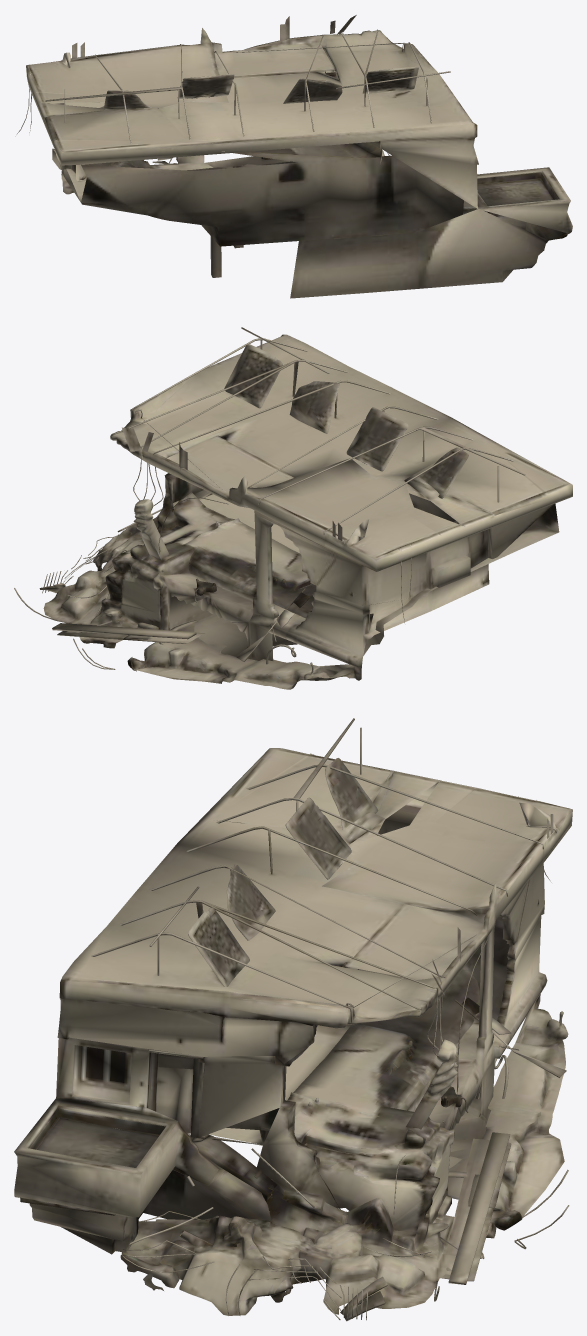
File: ruin.glb
3 views of the same model, one above another, from view 1: azimuth 30°, elevation 25°; view 2: azimuth 150°, elevation 25°; view 3: azimuth 270°, elevation 25° (orthographic). The views are drawn at different scales.
Parts seen in each view (by area): view 1: tripo_node_61b948ee-b52d-4aac-af40-17ef84d7df33; view 2: tripo_node_61b948ee-b52d-4aac-af40-17ef84d7df33; view 3: tripo_node_61b948ee-b52d-4aac-af40-17ef84d7df33.
Part boxes in pixels (left/top/right/bottom): tripo_node_61b948ee-b52d-4aac-af40-17ef84d7df33: left=15, top=15, right=572, bottom=298; tripo_node_61b948ee-b52d-4aac-af40-17ef84d7df33: left=14, top=327, right=572, bottom=689; tripo_node_61b948ee-b52d-4aac-af40-17ef84d7df33: left=14, top=718, right=572, bottom=1321.
Bounding box in the file's own units: 0.9995 × 0.4712 × 0.7583.
1 material, 1 textured.
